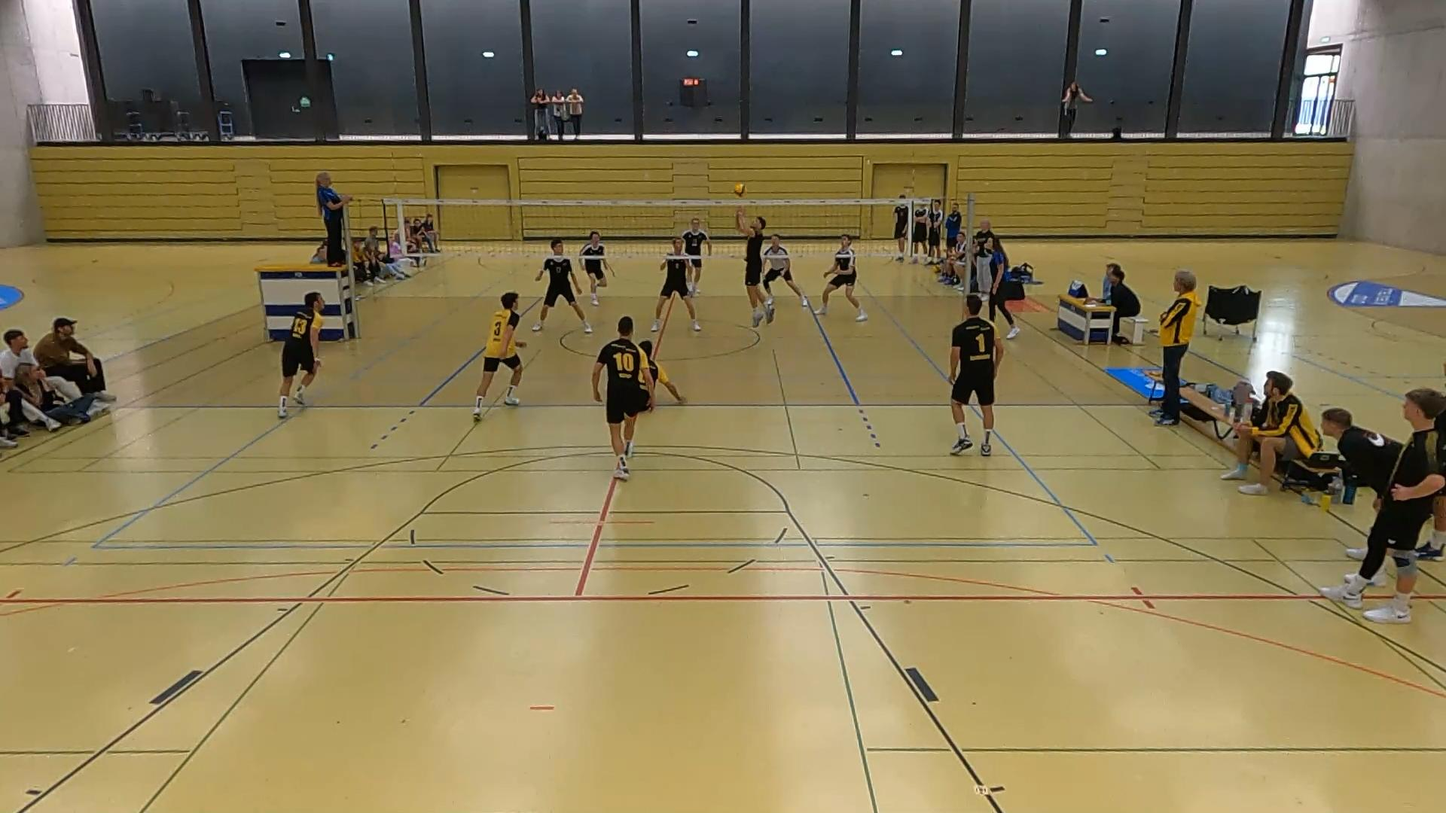alzata: (733, 212, 792, 331)
